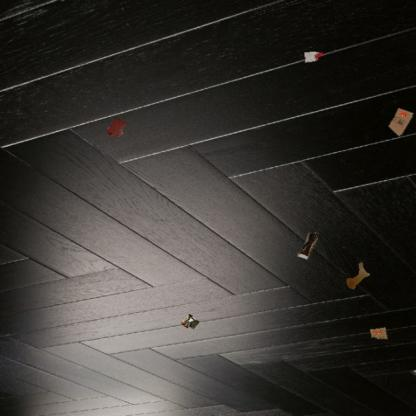dirty: (387, 107, 415, 137), (296, 231, 318, 260), (178, 312, 202, 332), (368, 326, 390, 341), (302, 50, 324, 64)
liquid: (345, 261, 371, 290), (106, 117, 128, 138)
